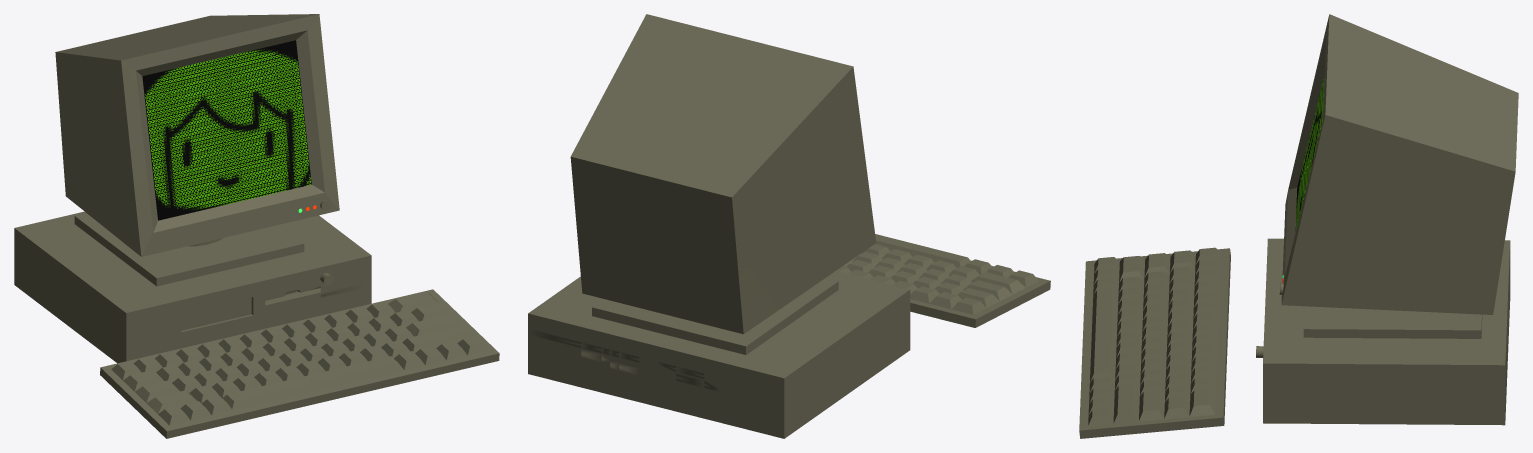
Rendered from smol_ame_a.i..glb.
The picture shows the model from 3 angles, left to right: view 1: azimuth 30°, elevation 25°; view 2: azimuth 150°, elevation 25°; view 3: azimuth 270°, elevation 25°; orthographic projection. The views are drawn at different scales.
Visible parts, largest first — view 1: lambert1_001-material, blinn1_001-material; view 2: lambert1_001-material; view 3: lambert1_001-material, blinn1_001-material.
Boxes of the visible parts, <box> form: lambert1_001-material: <box>14,14,499,438</box>; blinn1_001-material: <box>142,40,311,220</box>; lambert1_001-material: <box>528,14,1050,438</box>; lambert1_001-material: <box>1079,14,1518,438</box>; blinn1_001-material: <box>1295,77,1324,232</box>.
Bounding box in the file's own units: 4 × 3.25 × 4.36.
4 materials, 1 textured.
